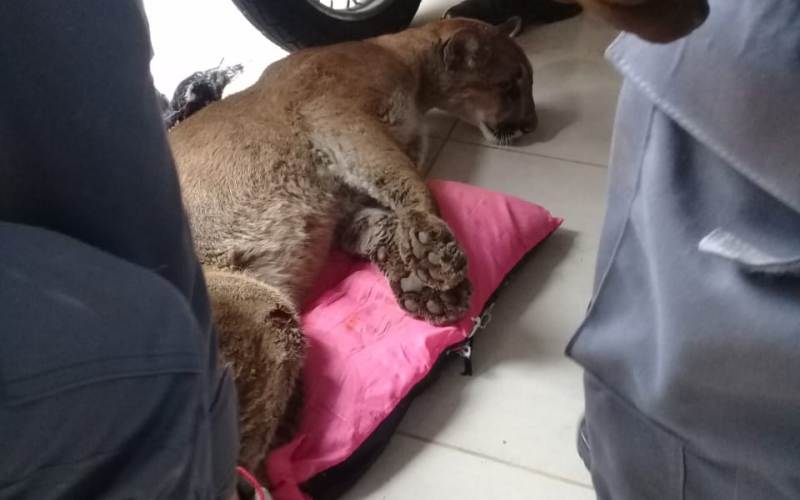OncaParda: (175, 12, 544, 452)
